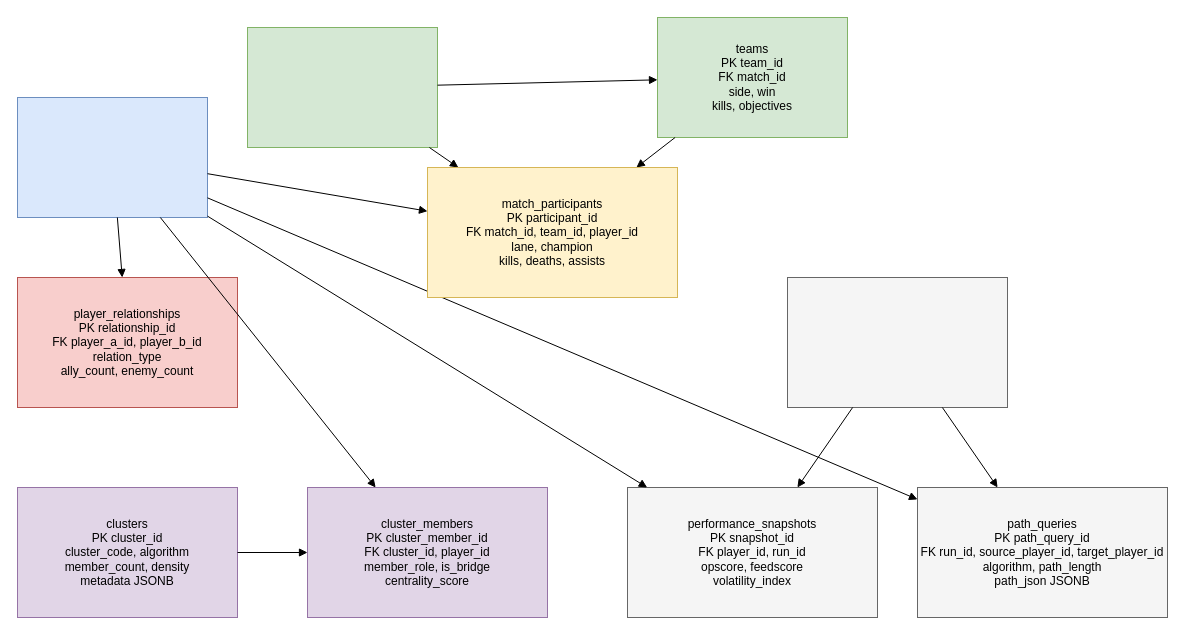
Some shapes in this 1185 by 635 pixel diagram are drawn without their labels. Here are the shapes that lost their labels. From the top down, the centre of each, then its label:
At [342,87]: "matches PK match_id riot_match_id queue_type, patch started_at, duration".
At [112,157]: "players PK player_id puuid, display_name region, role opscore, feedscore".
At [897,342]: "analysis_runs PK run_id run_type, graph_mode started_at, status parameters JSONB".
